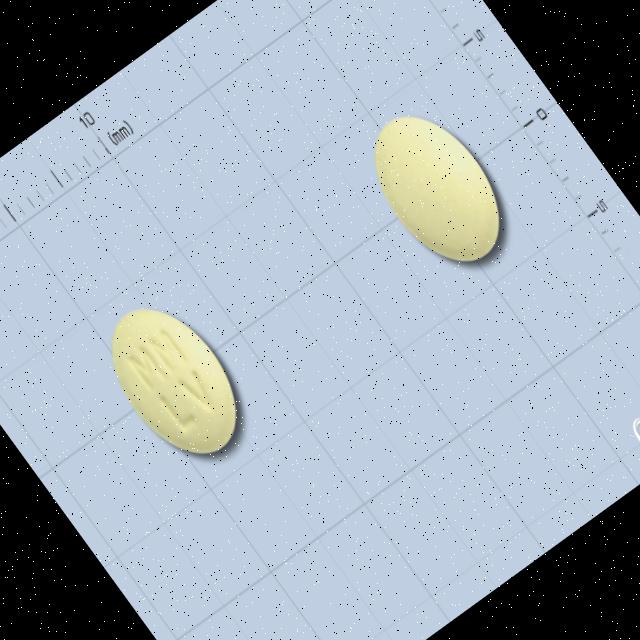Levofuracin: (84, 283, 262, 477), (347, 91, 525, 284)
